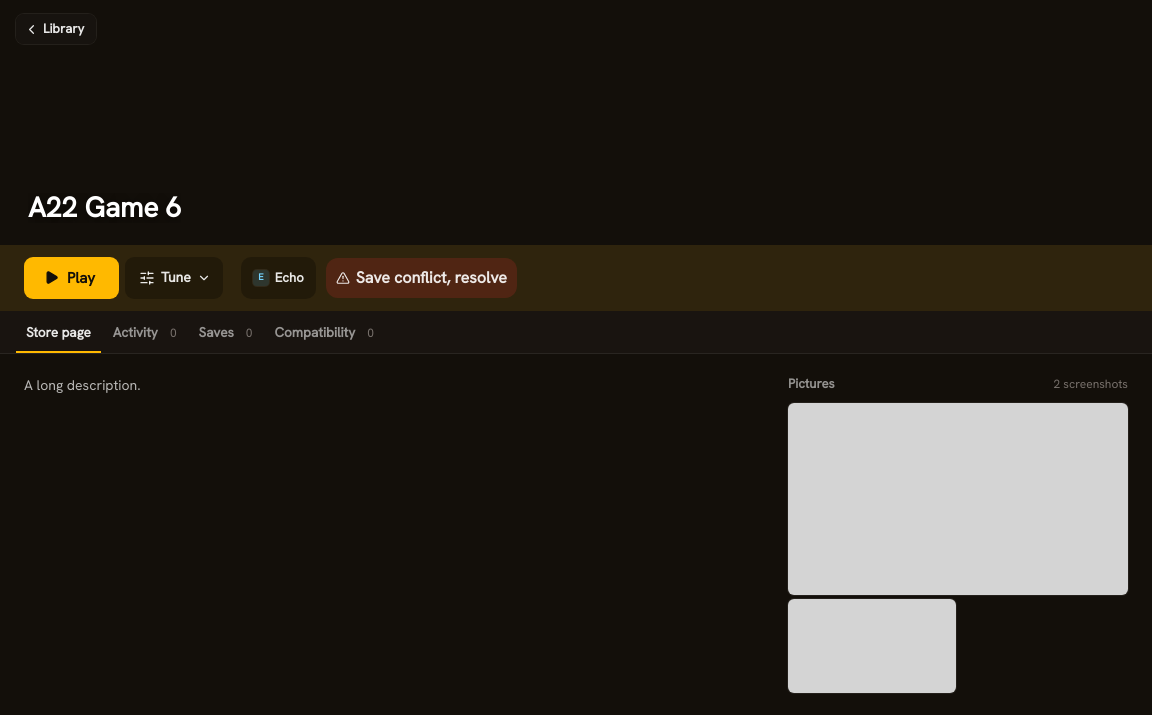
/22 game strip states (issue #137) › cloud conflict: a button that opens the conflict dialog
This screenshot has width=1152, height=715.
What coordinates should you click on to do the following:
click the button "Save conflict, resolve"
I would click on:
 (421, 278)
Its box is [326, 258, 517, 298].
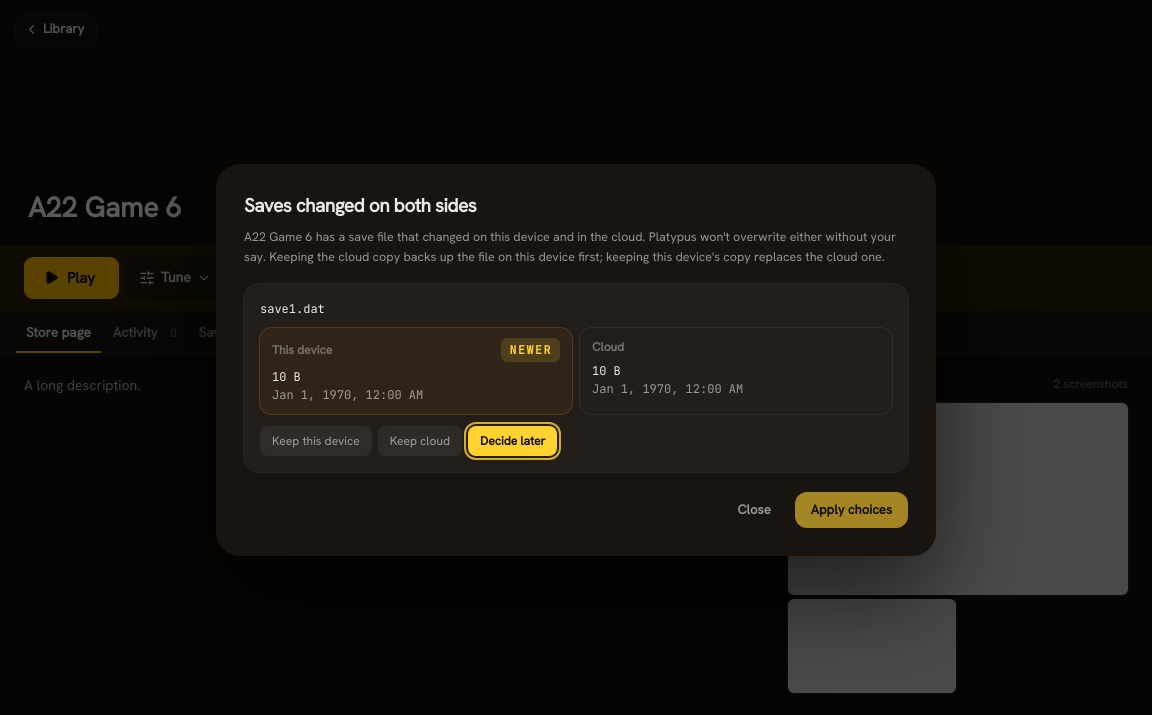
Expected: the heading "Saves changed on both sides" is shown, [244, 193, 476, 218]
